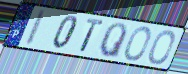0: (50, 15, 79, 51)
I: (24, 9, 49, 47)
O: (147, 29, 176, 66), (123, 26, 152, 62)
Q: (97, 22, 128, 60)
T: (78, 17, 105, 54)
